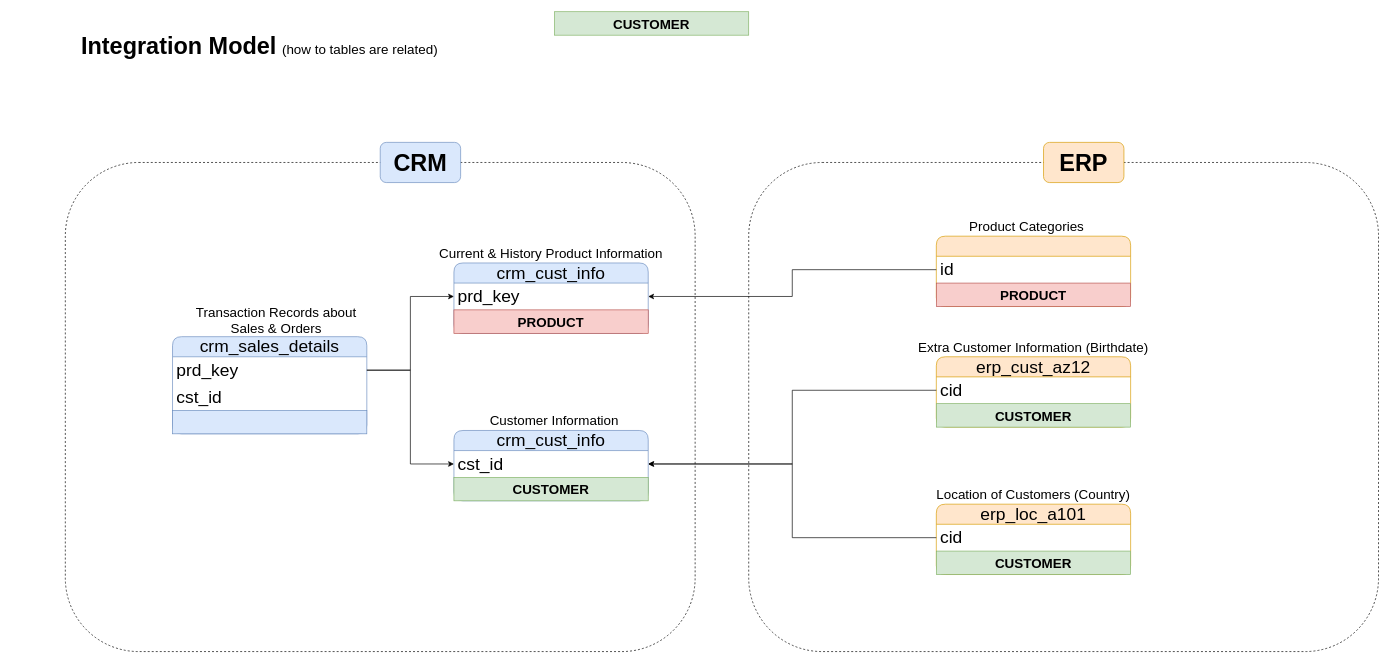
Some shapes in this 1390 by 663 pixel diagram are drawn without their labels. Here are the shapes that lost their labels. From the top down, the box of each, then its label:
(936, 236, 1131, 307): erp_px_cat_g1v2
(172, 410, 367, 434): SALES
